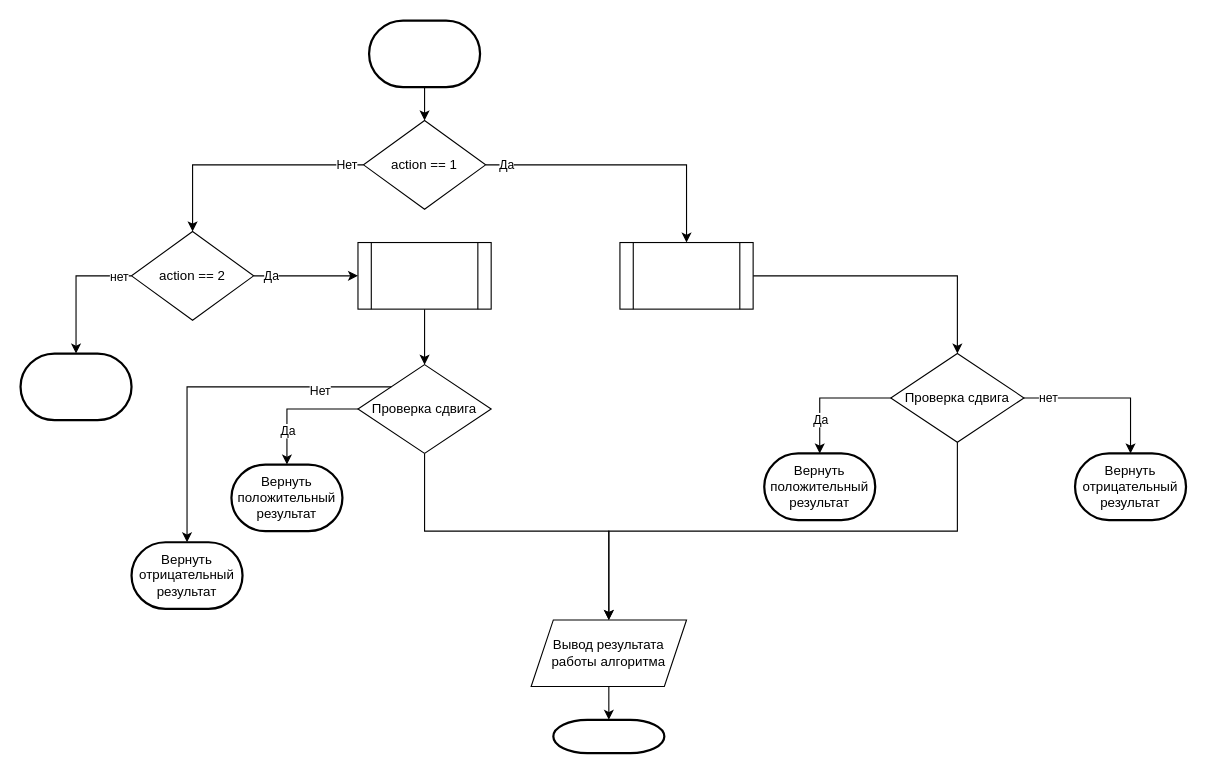
The diagram is 1205 pixels wide and 773 high, and some of its shapes have lost their labels. Each missing label, with the box of its shape:
Ввод и обработка: (619, 241, 753, 309)
Ввод текста: (357, 241, 491, 309)
Конец работы: (552, 718, 665, 754)
Начало работы: (367, 19, 481, 88)
Ошибка Неккоректный ввод: (19, 352, 132, 421)
